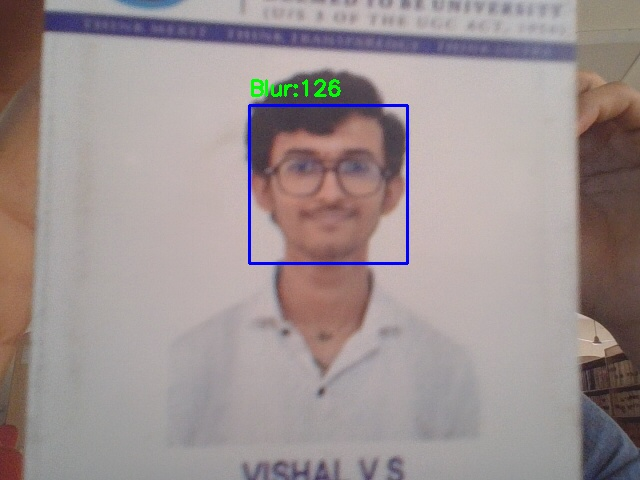fake: (249, 105, 407, 263)
